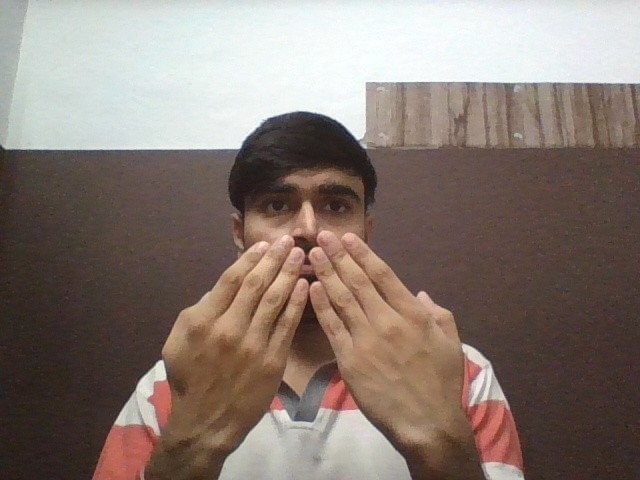Thankyou: (161, 230, 467, 440)
